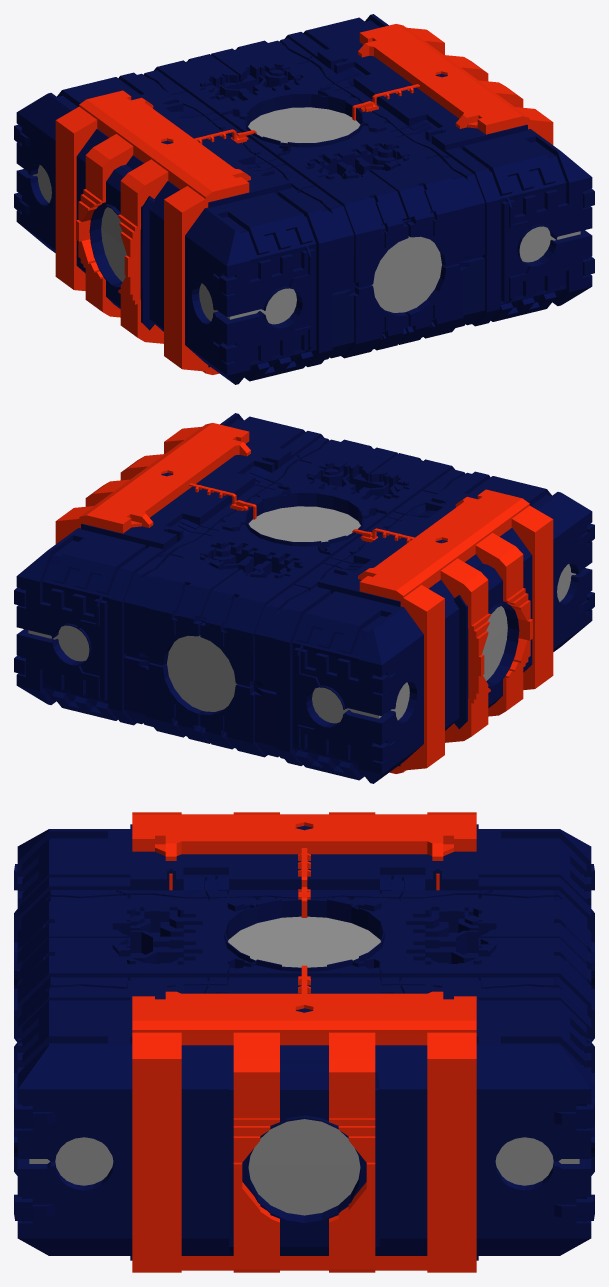
Rendered from CMS_LOD1.FBX.
3 renders of one model, top to bottom at view 1: azimuth 30°, elevation 25°; view 2: azimuth 150°, elevation 25°; view 3: azimuth 270°, elevation 25°, orthographic. The views are drawn at different scales.
Visible parts, largest first — view 1: ЦУС_главный корпус002; view 2: ЦУС_главный корпус002; view 3: ЦУС_главный корпус002.
Boxes of the visible parts, x1,y1,x2,y2 form: ЦУС_главный корпус002: (14,14,594,384); ЦУС_главный корпус002: (14,413,594,783); ЦУС_главный корпус002: (14,812,594,1272).
Size of the model in its own units: 333 by 303 by 144.
